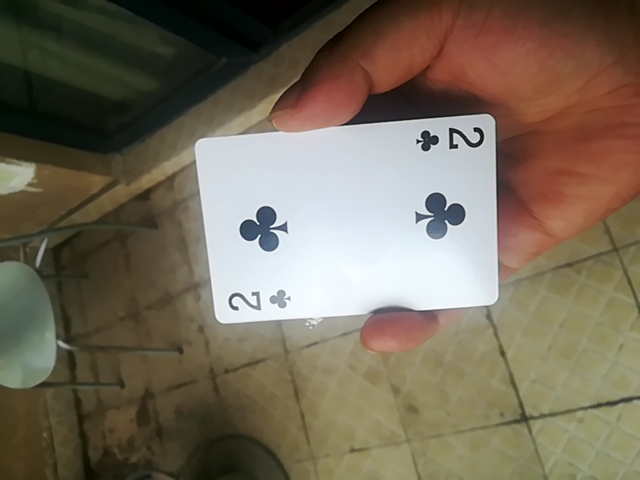mh 2: (195, 110, 497, 325)
